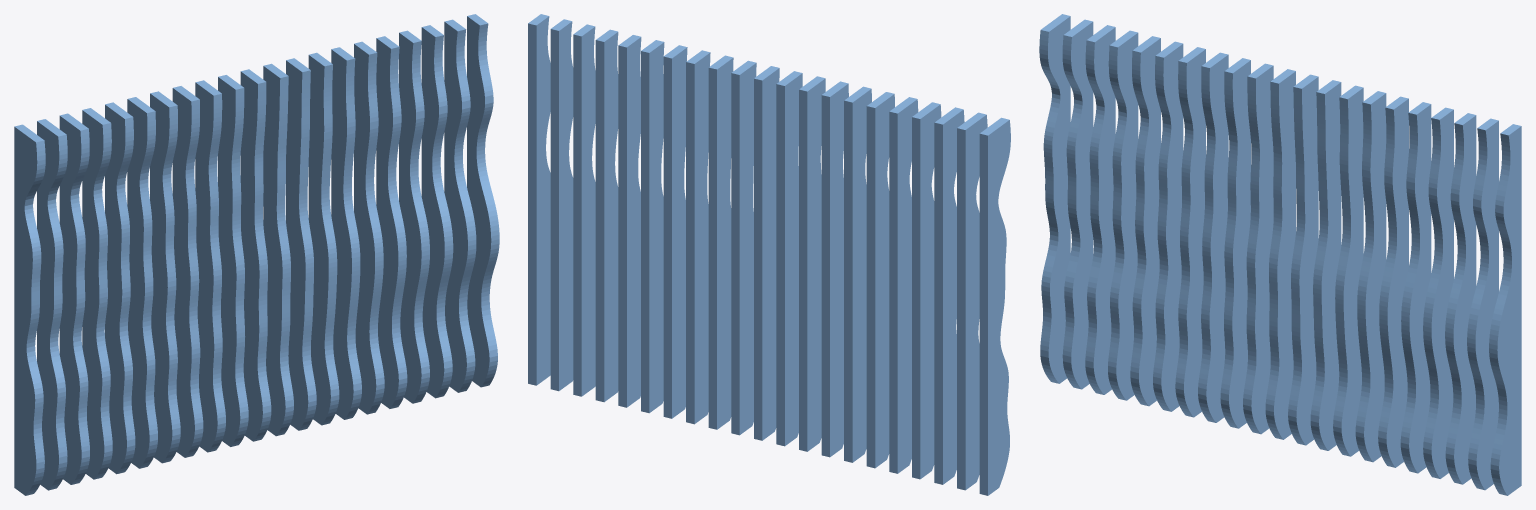
File: WallTest.glb
The picture shows the model from 3 angles, left to right: view 1: azimuth 30°, elevation 25°; view 2: azimuth 150°, elevation 25°; view 3: azimuth 330°, elevation 25°; orthographic projection.
Parts seen in each view (by area): view 1: no_transformations; view 2: no_transformations; view 3: no_transformations.
Boxes of the visible parts, x1,y1,x2,y2 form: no_transformations: [14, 14, 499, 495]; no_transformations: [528, 14, 1010, 495]; no_transformations: [1039, 14, 1521, 495].
Bounding box in the file's own units: 326 × 244 × 29.6.
